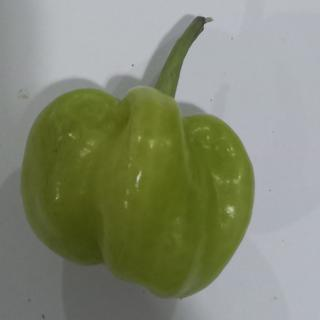Grade-B: (11, 73, 259, 305)
